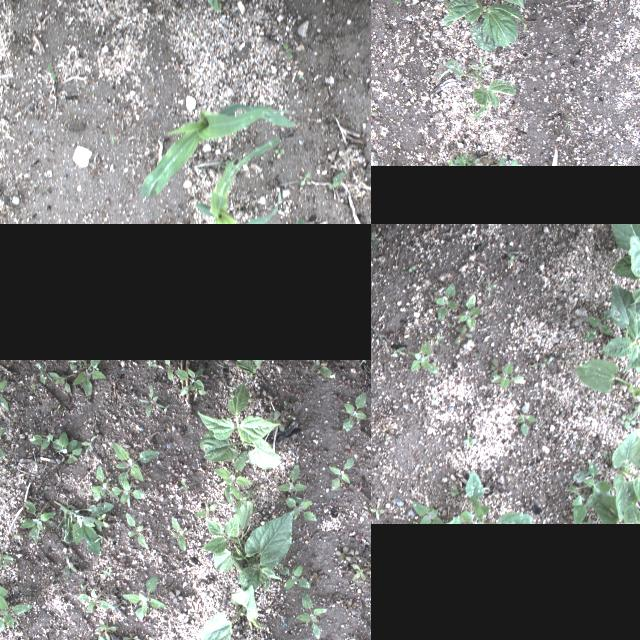crop: (140, 105, 296, 199), (200, 502, 292, 590), (194, 134, 280, 224), (197, 381, 281, 469), (430, 56, 514, 118), (443, 0, 527, 50), (599, 284, 640, 380), (571, 359, 640, 415), (581, 224, 640, 283), (198, 589, 260, 640), (56, 499, 112, 555), (611, 427, 640, 520), (611, 224, 640, 305), (112, 440, 158, 484), (122, 576, 168, 620), (216, 451, 254, 503), (587, 486, 640, 523), (18, 498, 56, 544), (296, 590, 330, 640), (69, 359, 107, 396), (0, 596, 31, 631), (112, 479, 148, 506), (175, 366, 207, 396), (342, 392, 366, 432), (59, 431, 87, 465), (90, 465, 116, 501), (75, 588, 113, 612), (327, 458, 357, 488), (277, 463, 307, 492), (36, 370, 70, 394), (126, 512, 146, 548), (284, 498, 316, 520), (278, 566, 308, 588), (138, 384, 158, 416), (235, 360, 263, 380), (171, 516, 185, 552), (29, 434, 63, 448), (311, 359, 331, 378), (0, 369, 9, 411), (0, 568, 7, 617), (199, 0, 225, 12), (0, 548, 13, 570), (96, 632, 125, 640), (164, 361, 172, 379)
weed: (442, 471, 532, 524), (564, 460, 614, 508), (584, 308, 620, 342), (407, 342, 439, 376), (490, 364, 526, 390), (458, 294, 482, 330), (435, 282, 457, 320), (568, 484, 588, 524), (514, 402, 536, 436), (412, 502, 444, 524), (62, 553, 78, 579), (194, 502, 218, 518), (446, 154, 474, 166), (488, 358, 504, 379), (327, 171, 345, 189), (371, 325, 386, 345), (270, 410, 284, 430), (452, 325, 466, 345), (371, 501, 384, 521), (619, 412, 635, 428), (298, 170, 312, 188), (280, 41, 294, 59), (44, 63, 58, 81), (352, 564, 366, 582), (80, 436, 94, 454), (453, 325, 471, 339), (334, 548, 350, 562), (498, 156, 518, 166), (431, 332, 445, 346), (538, 356, 554, 368), (371, 229, 382, 246), (363, 364, 371, 387), (97, 621, 115, 631), (349, 548, 361, 562), (168, 588, 182, 600), (417, 329, 431, 341), (282, 400, 298, 410), (462, 437, 476, 448), (100, 566, 112, 578), (435, 0, 455, 7), (166, 470, 180, 480), (51, 404, 61, 416), (32, 456, 42, 468), (311, 573, 323, 583), (322, 596, 334, 606), (187, 594, 197, 606), (393, 346, 405, 356), (212, 163, 226, 171), (430, 388, 436, 406), (572, 440, 582, 450), (360, 504, 371, 513), (108, 131, 115, 145), (107, 590, 119, 598), (371, 109, 378, 121), (274, 147, 284, 155), (114, 598, 122, 608), (449, 486, 457, 496), (123, 635, 137, 640), (160, 404, 168, 412), (485, 284, 495, 290), (469, 351, 478, 357), (29, 381, 35, 389), (407, 266, 415, 272), (508, 255, 514, 263), (182, 480, 186, 490), (541, 438, 551, 442), (298, 74, 304, 80), (565, 278, 571, 284), (603, 452, 607, 460), (200, 167, 206, 171), (34, 362, 38, 368), (40, 490, 44, 496), (102, 588, 108, 592), (412, 520, 418, 524), (424, 448, 428, 454), (446, 322, 450, 328), (530, 364, 536, 368)
